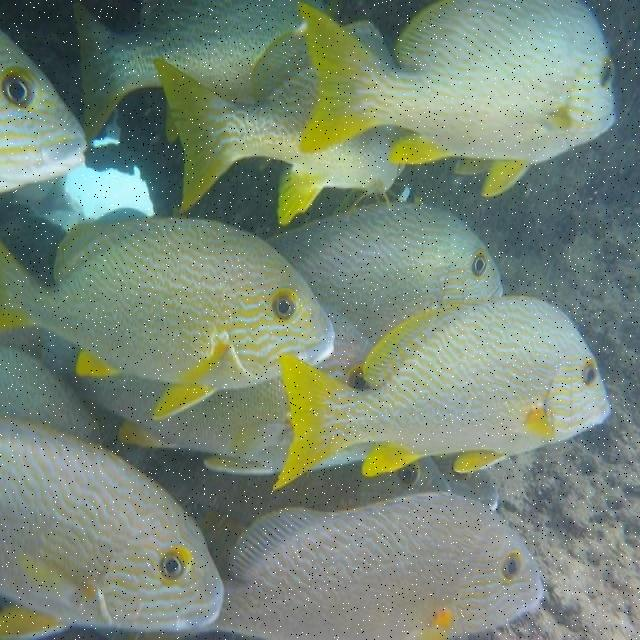fish: (1, 217, 335, 420), (272, 295, 612, 490), (297, 0, 616, 196), (153, 31, 419, 225), (0, 417, 224, 639), (205, 492, 543, 639), (41, 329, 295, 474), (267, 203, 503, 346), (74, 0, 302, 137), (151, 451, 451, 536), (0, 31, 87, 193), (0, 347, 103, 443)
